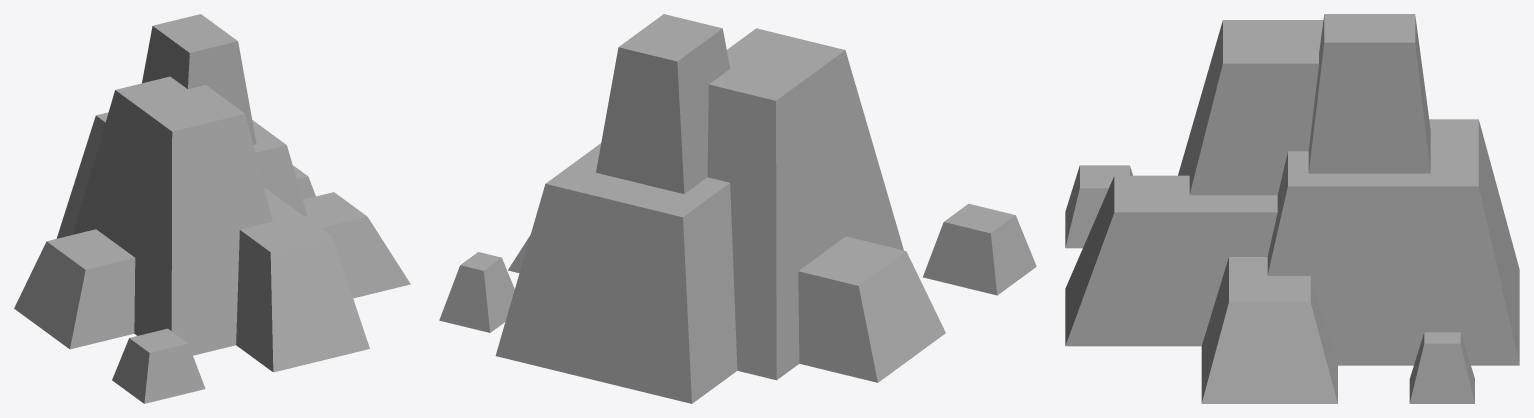
The model's file is Rock_Small_01.fbx.
3 views of the same model, side by side, from view 1: azimuth 30°, elevation 25°; view 2: azimuth 150°, elevation 25°; view 3: azimuth 270°, elevation 25° (orthographic). The views are drawn at different scales.
Parts seen in each view (by area): view 1: Rock_Small; view 2: Rock_Small; view 3: Rock_Small.
Boxes of the visible parts, x1,y1,x2,y2 form: Rock_Small: [14, 14, 410, 403]; Rock_Small: [439, 14, 1036, 403]; Rock_Small: [1065, 14, 1519, 403].
Size of the model in its own units: 100 by 70 by 100.
